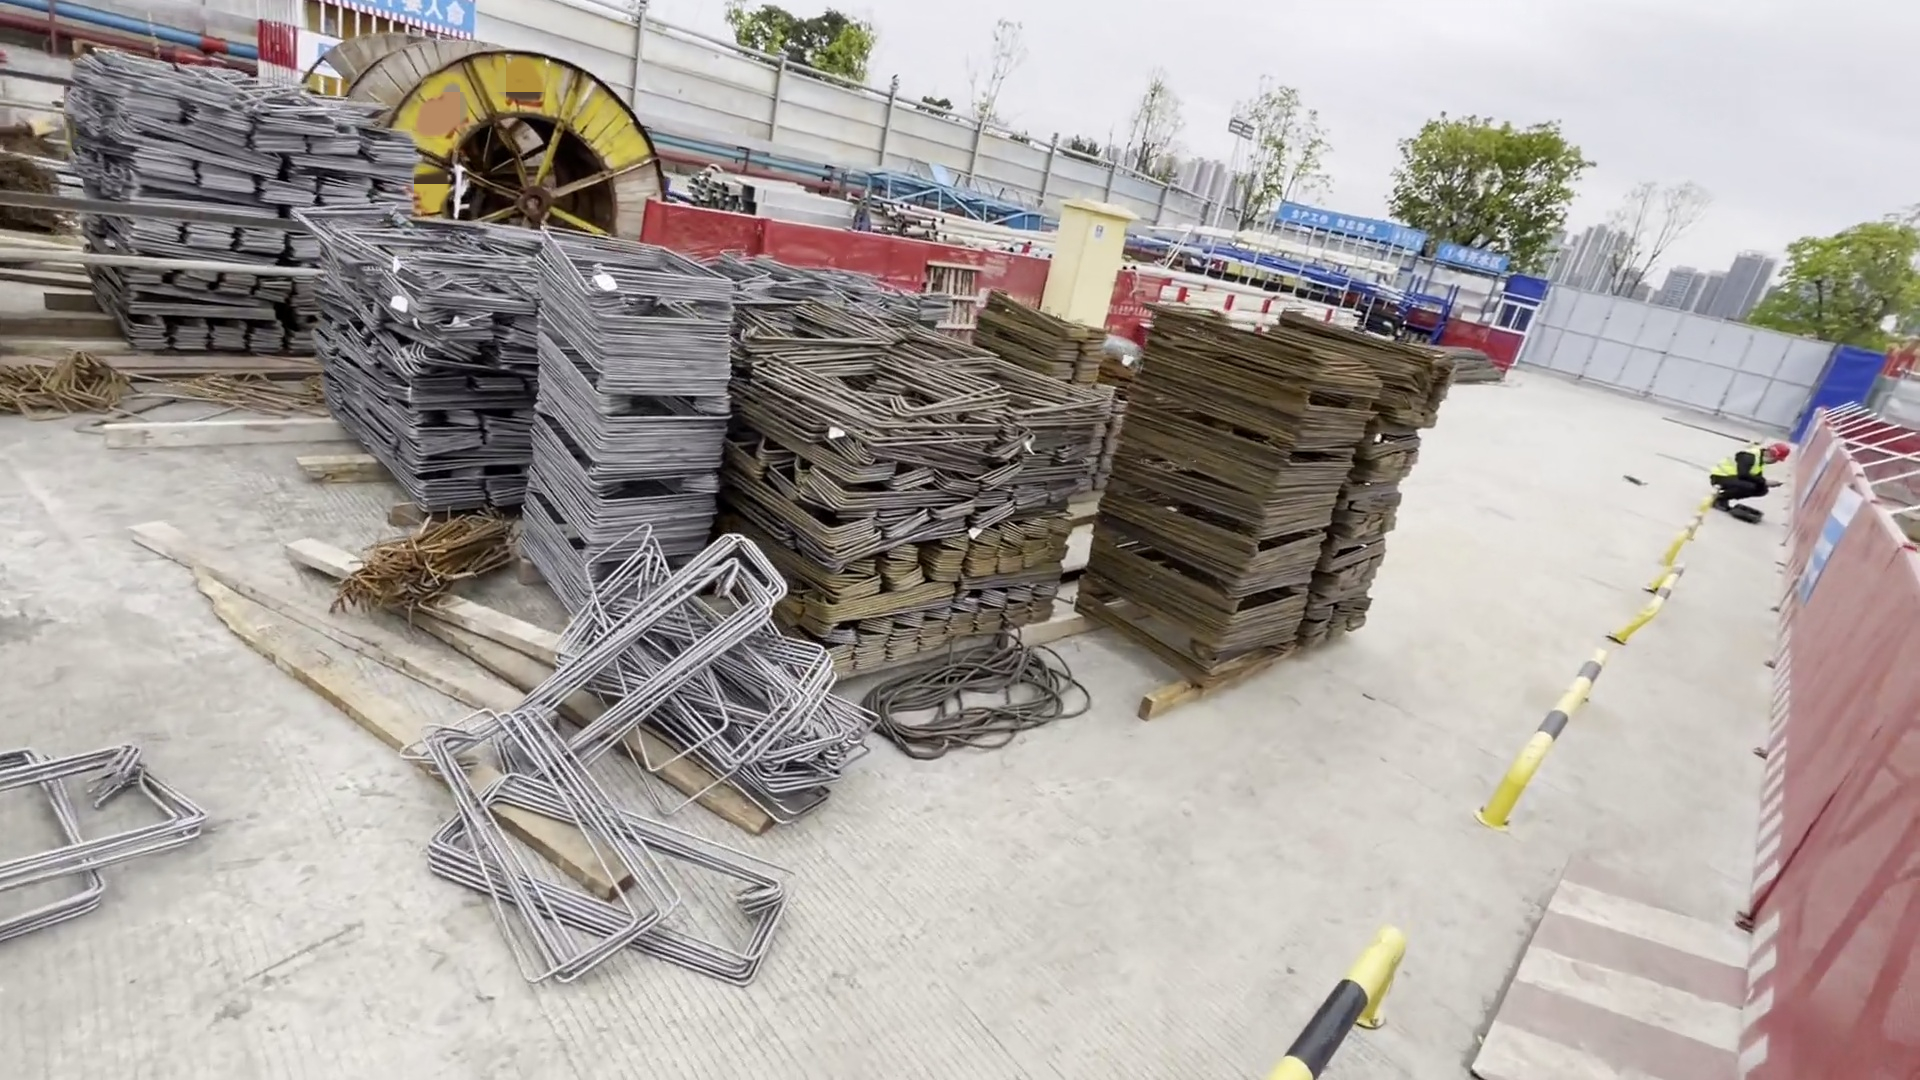ebox: (1033, 192, 1125, 327)
fence: (1759, 404, 1920, 1076), (633, 194, 1035, 304)
person: (1701, 430, 1793, 527)
rebar: (1436, 347, 1508, 392)
slogan: (1287, 205, 1380, 234)
vest: (1713, 445, 1759, 481), (1768, 441, 1790, 464)
